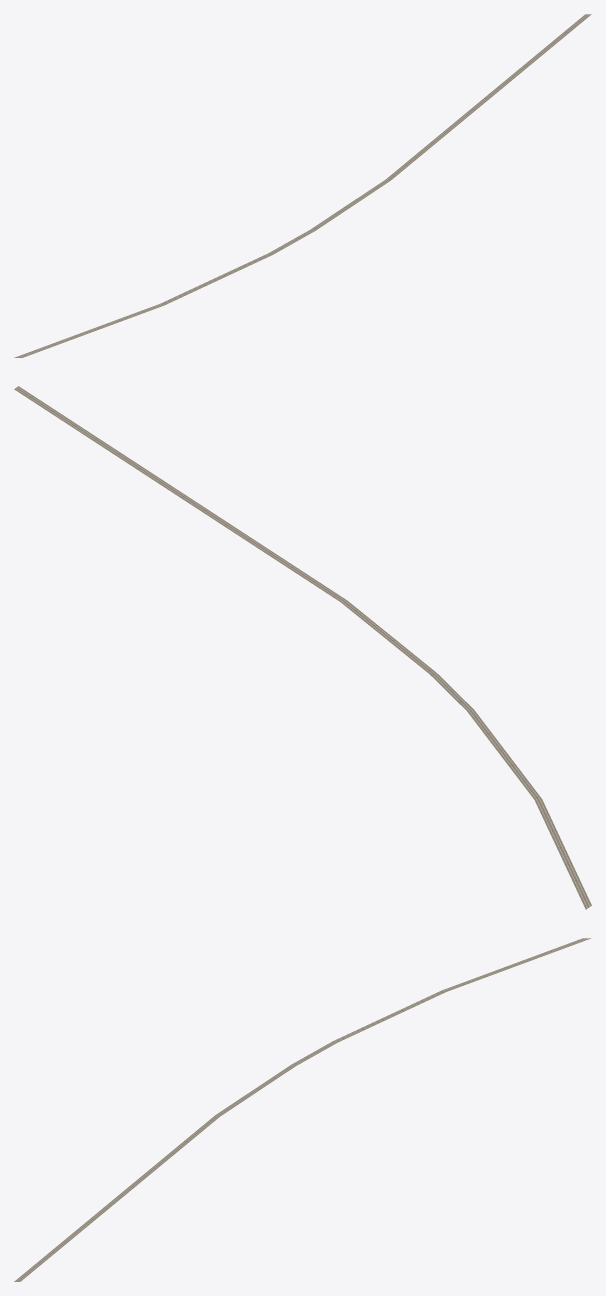
The picture shows the model from 3 angles, top to bottom: view 1: azimuth 90°, elevation 25°; view 2: azimuth 150°, elevation 25°; view 3: azimuth 270°, elevation 25°; orthographic projection. The views are drawn at different scales.
Parts seen in each view (by area): view 1: rail; view 2: rail; view 3: rail.
Boxes of the visible parts, x1=… form: rail: x1=14, y1=14, x2=591, y2=357; rail: x1=14, y1=386, x2=591, y2=909; rail: x1=14, y1=938, x2=590, y2=1281.
Bounding box in the file's own units: 500 × 0.04 × 355.
